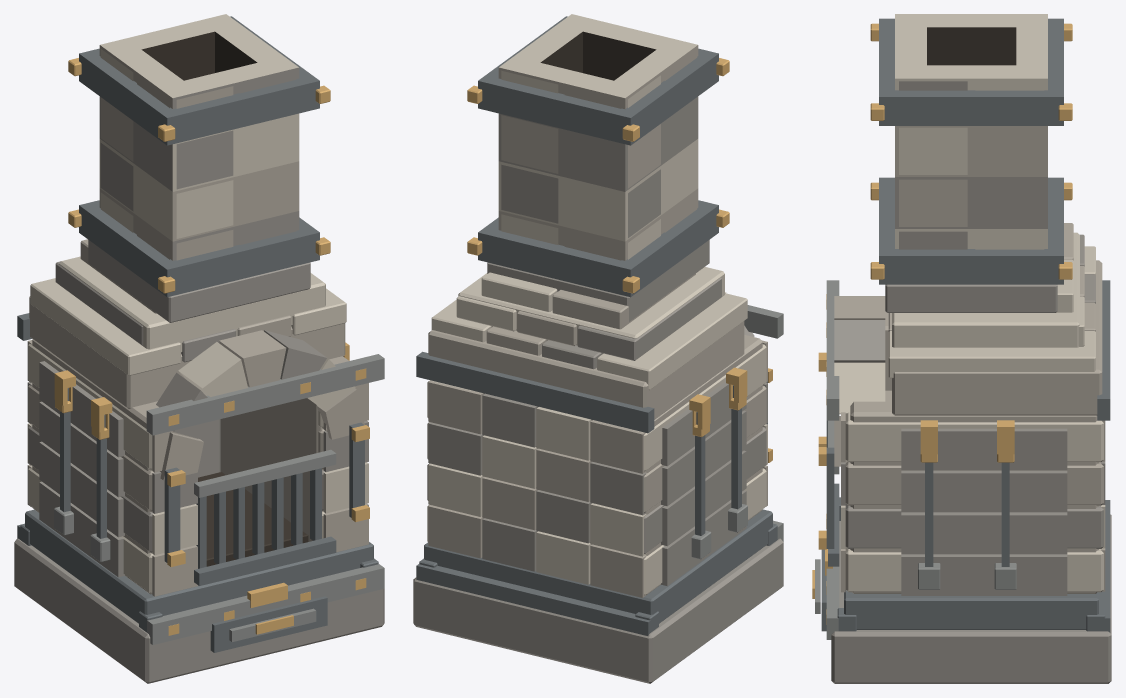
File: furnace.gltf
3 views of the same model, side by side, from view 1: azimuth 30°, elevation 25°; view 2: azimuth 150°, elevation 25°; view 3: azimuth 270°, elevation 25° (orthographic). The views are drawn at different scales.
Bounding box in the file's own units: 0.95 × 2 × 0.94.
